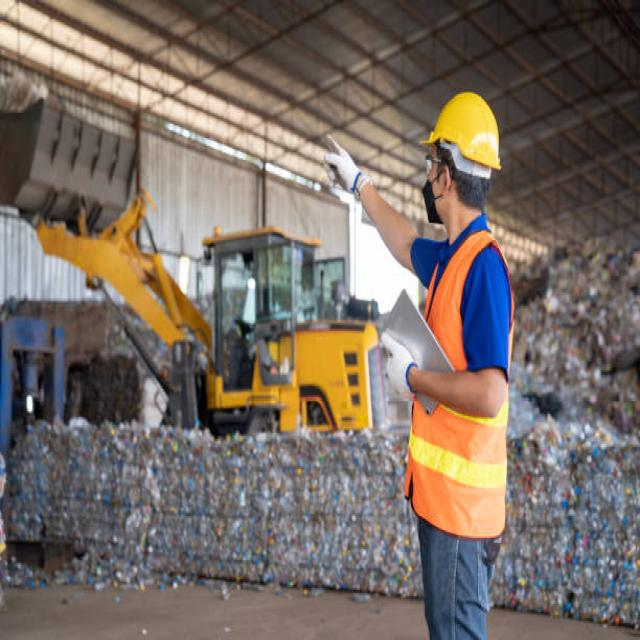plastic: (70, 434, 404, 590)
